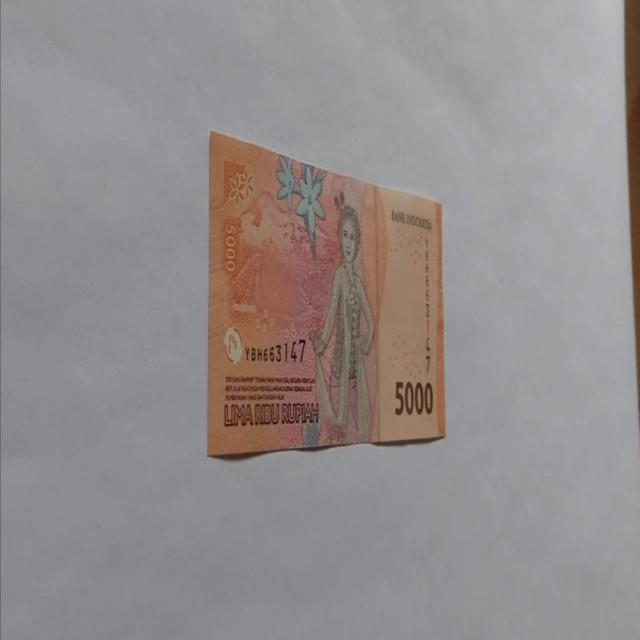lima ribu rupiah: (206, 128, 446, 458), (308, 203, 377, 444)
